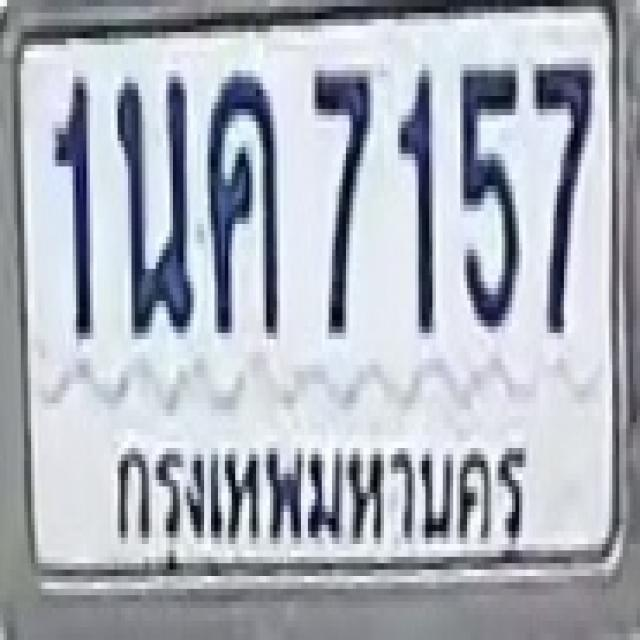1: (50, 70, 88, 333), (394, 67, 432, 330)
5: (460, 67, 519, 330)
7: (532, 58, 592, 332), (312, 64, 371, 333)
A04: (206, 70, 278, 333)
A25: (114, 70, 190, 333)
BKK: (99, 417, 535, 591)
